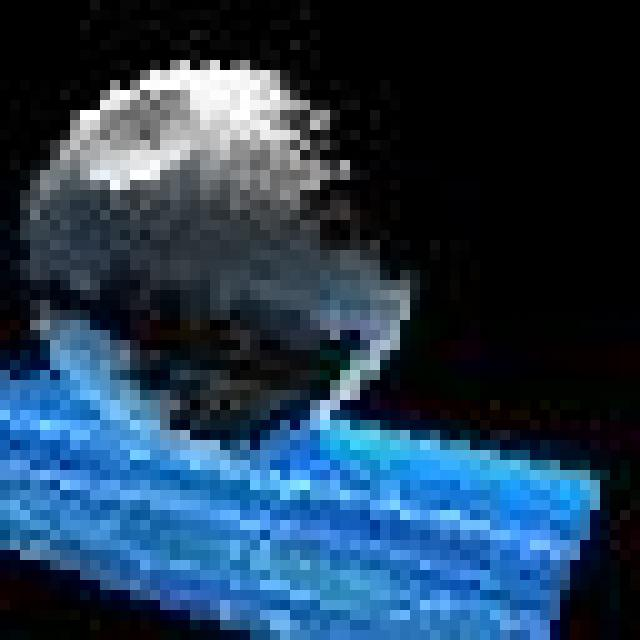Death Star: (10, 49, 437, 459)
